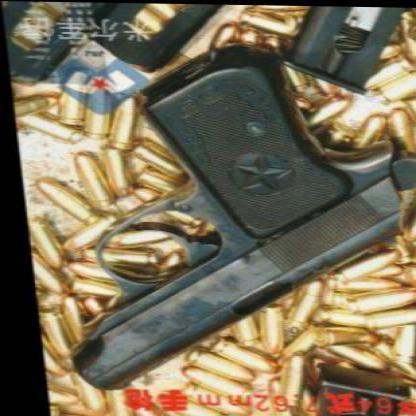pistol: (34, 46, 413, 398)
